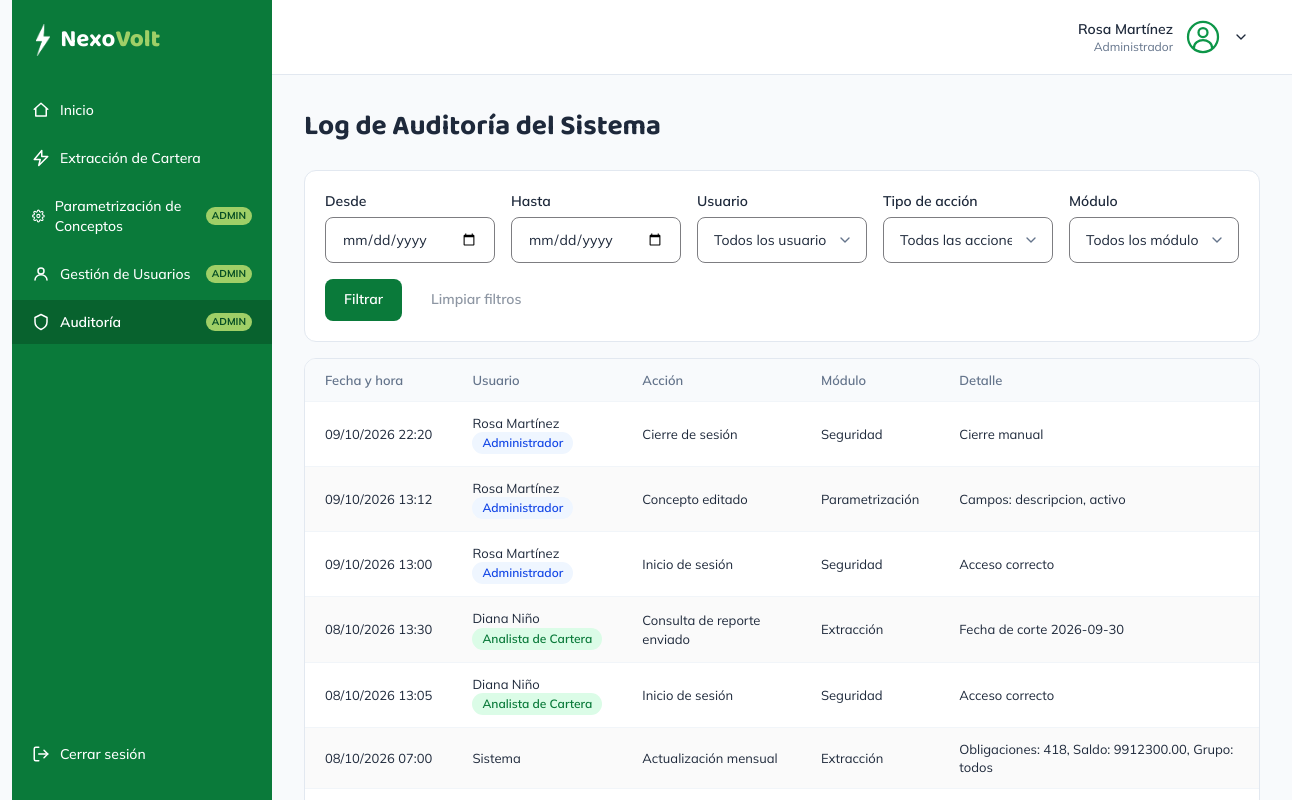
Test case: Log de auditoría › las acciones del sistema se muestran como "Sistema" y sin etiqueta de rol
Select "Cálculo" in the dropdown labelled "Tipo de acción" at (968, 240), box [883, 217, 1053, 263]
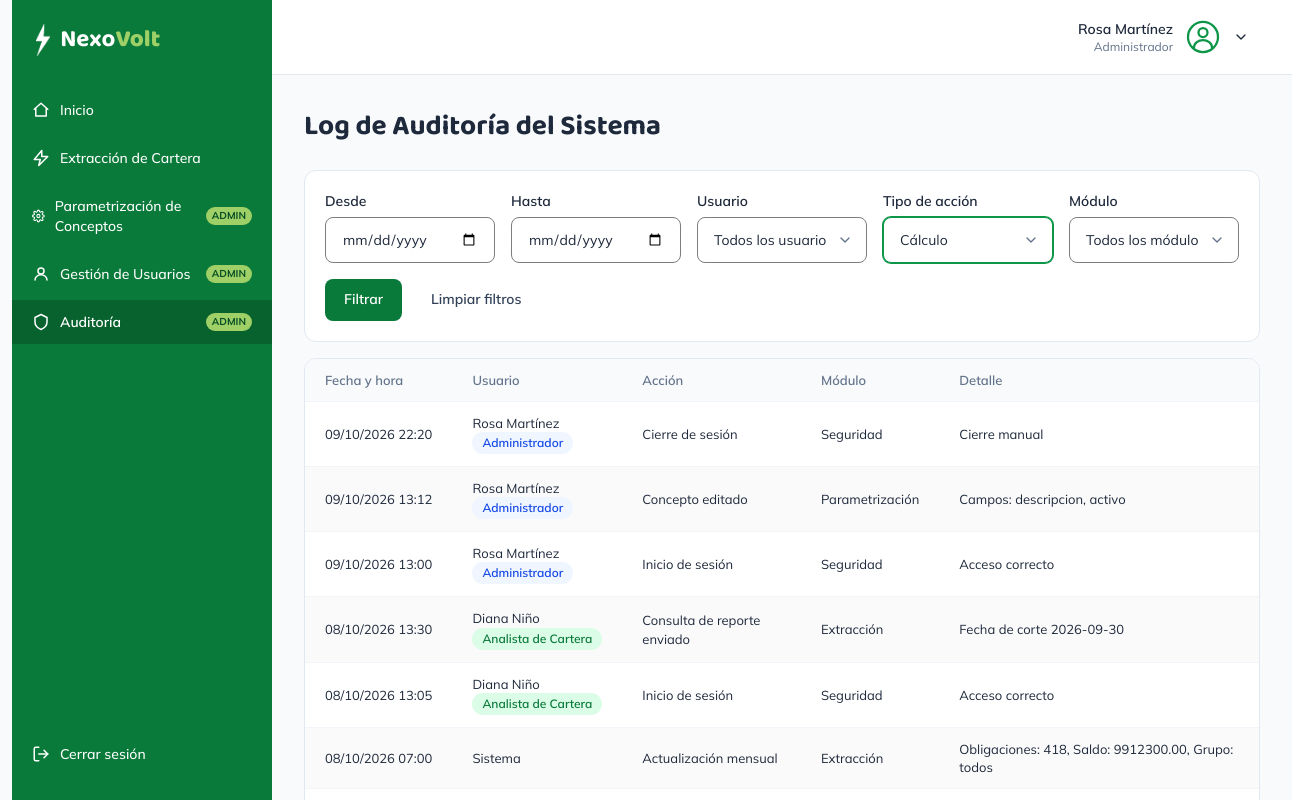
Click the button "Filtrar" at (364, 300), box [325, 279, 402, 321]
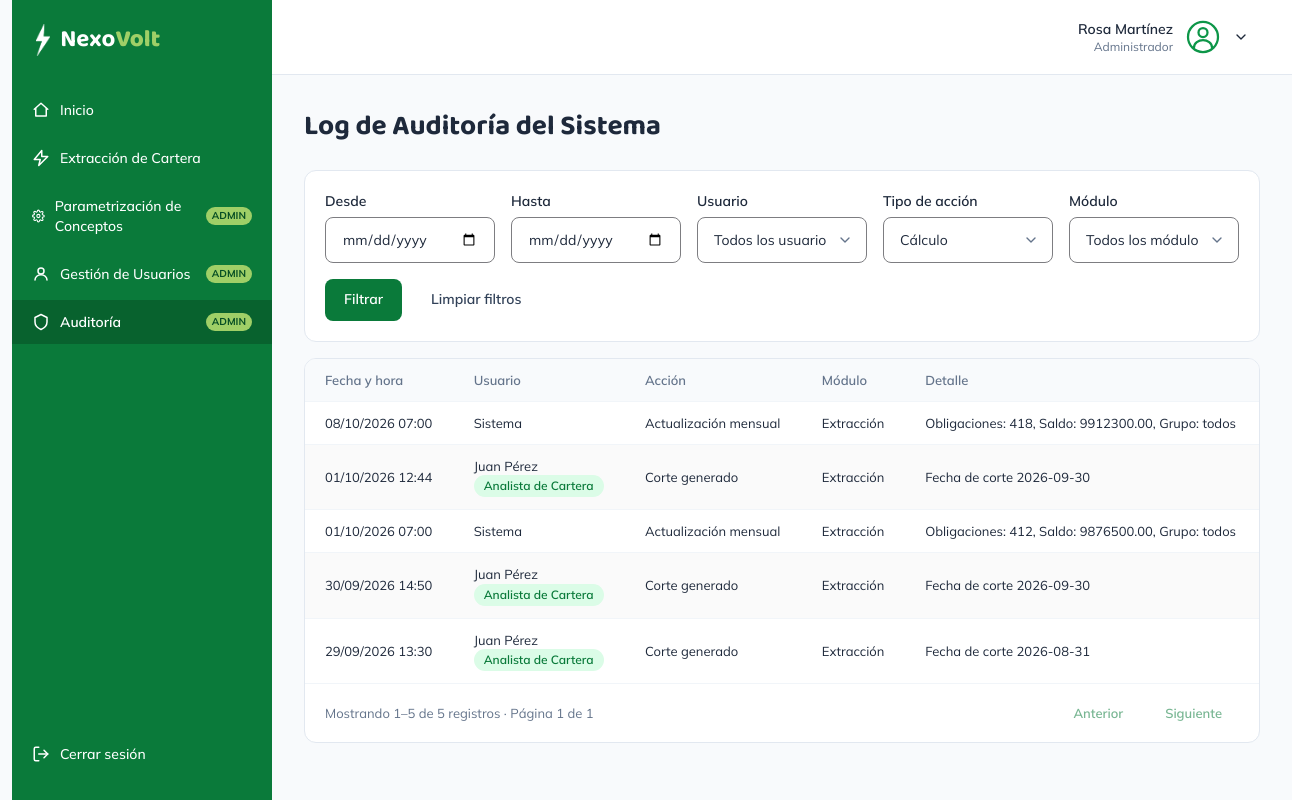
expect the text "Mostrando 1–5 de 5 registros · Página 1 de 1" is shown: met, box [325, 704, 594, 722]
expect the text "Actualización mensual" in the row of "01/10/2026 07:00" is shown: met, box [645, 523, 780, 539]
